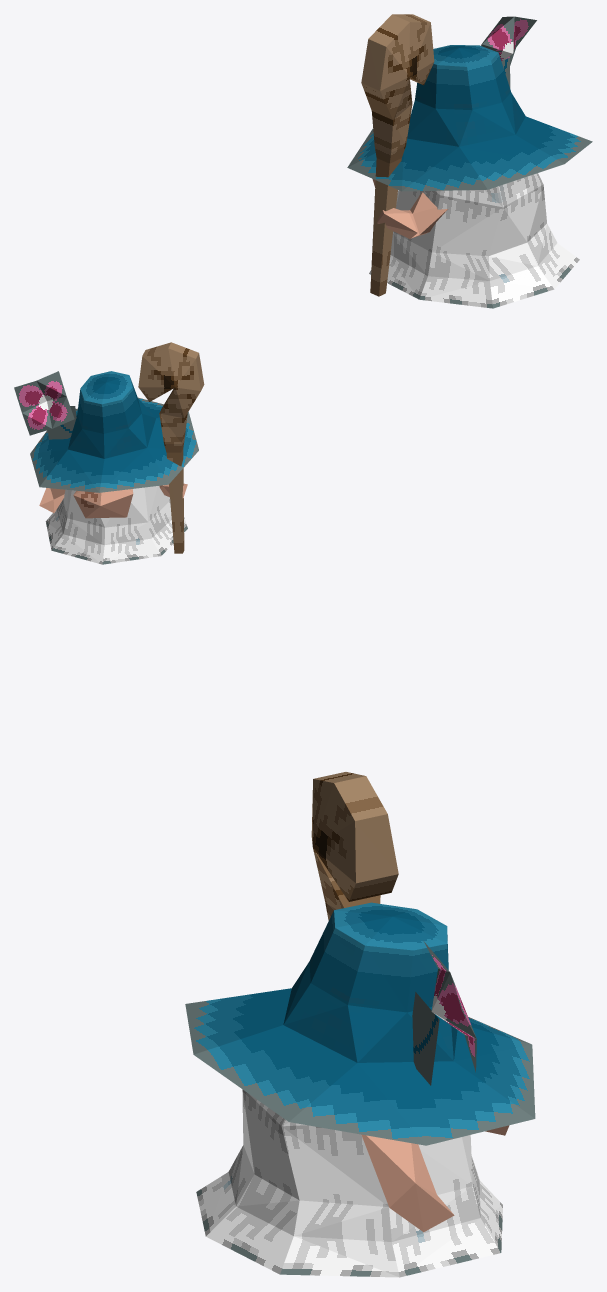
The model's file is farley.glb.
3 renders of one model, top to bottom at view 1: azimuth 30°, elevation 25°; view 2: azimuth 150°, elevation 25°; view 3: azimuth 270°, elevation 25°, orthographic. The views are drawn at different scales.
Visible parts, largest first — view 1: frame_08.12.2021_10.58.20; view 2: frame_08.12.2021_10.58.20; view 3: frame_08.12.2021_10.58.20.
Boxes of the visible parts, box(x1,y1,x2,y2) form: frame_08.12.2021_10.58.20: box(347, 14, 592, 308); frame_08.12.2021_10.58.20: box(14, 342, 204, 564); frame_08.12.2021_10.58.20: box(185, 772, 535, 1277).
Size of the model in its own units: 18.92 by 7.59 by 7.89.
10 materials, 10 textured.
